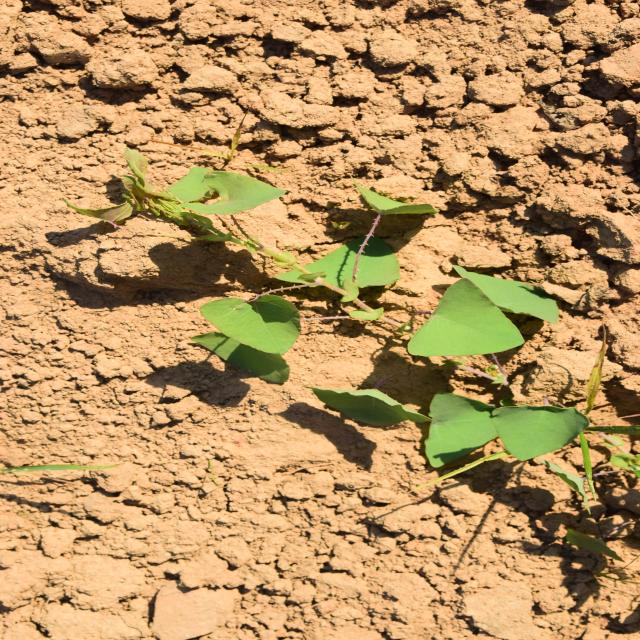Asiatic_Smartweed: (253, 103, 486, 542), (172, 300, 278, 593)
